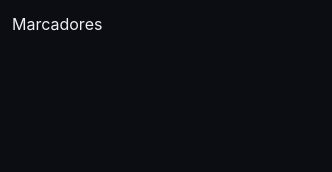
Scenario: BookmarksPanel › toggles with aria-expanded/aria-controls and Escape returns focus to the toggle
Later steps or results of the test are not shown.
Click the button "Marcadores": (57, 24) [12, 12, 102, 36]
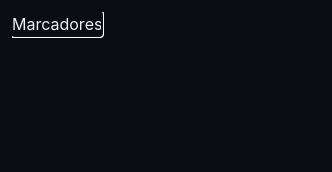
Expected: the button "Marcadores" is expanded, [12, 12, 102, 36]
